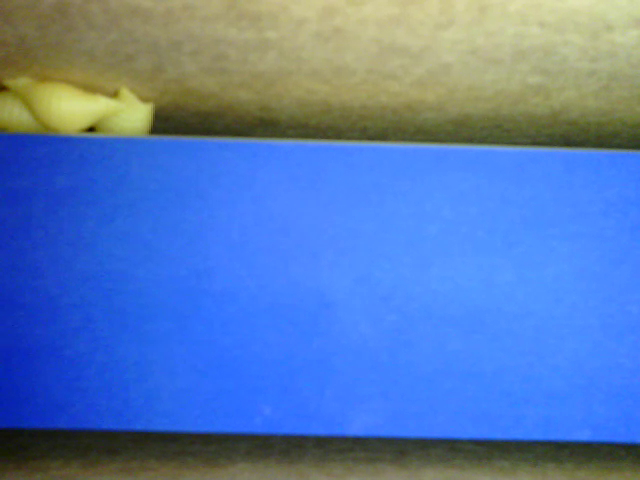shell: (1, 68, 121, 140), (89, 87, 155, 134), (1, 89, 61, 134)
